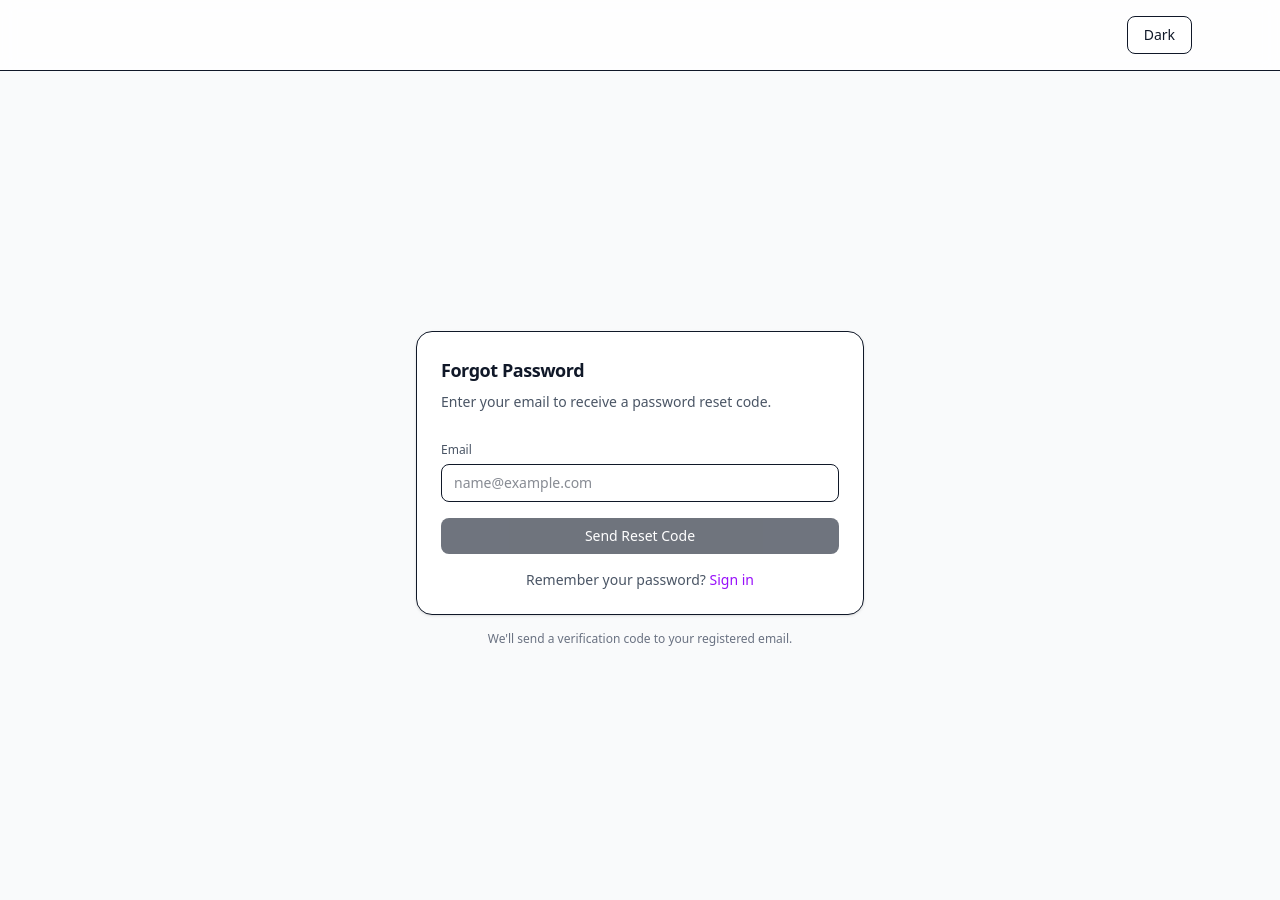
Test case: ForgotPasswordPage › shows validation error for invalid email format
In the field with placeholder "name@example.com": (640, 482) [441, 464, 839, 502], type "not-an-email"
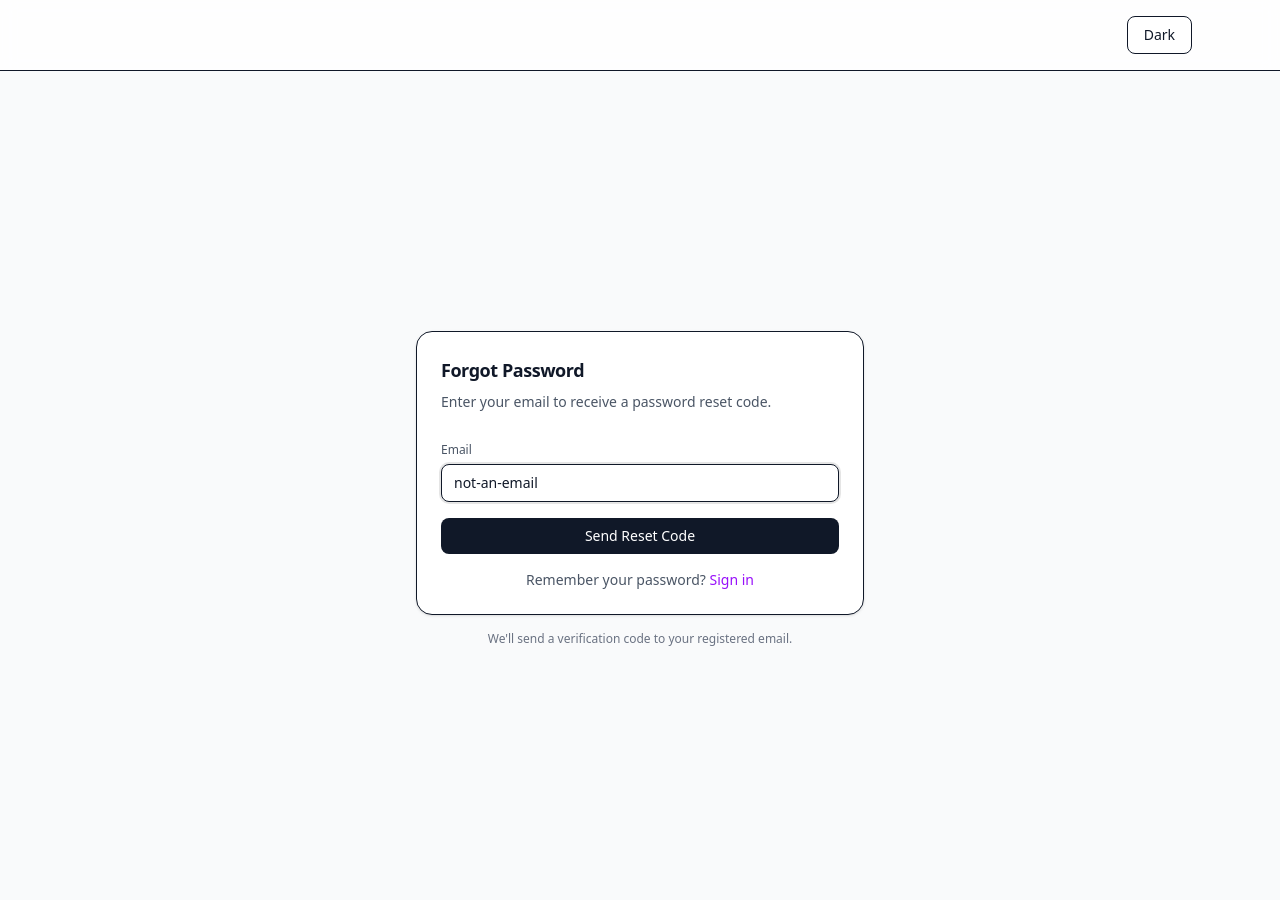
Click the button "Send Reset Code": (640, 536) [441, 518, 839, 554]
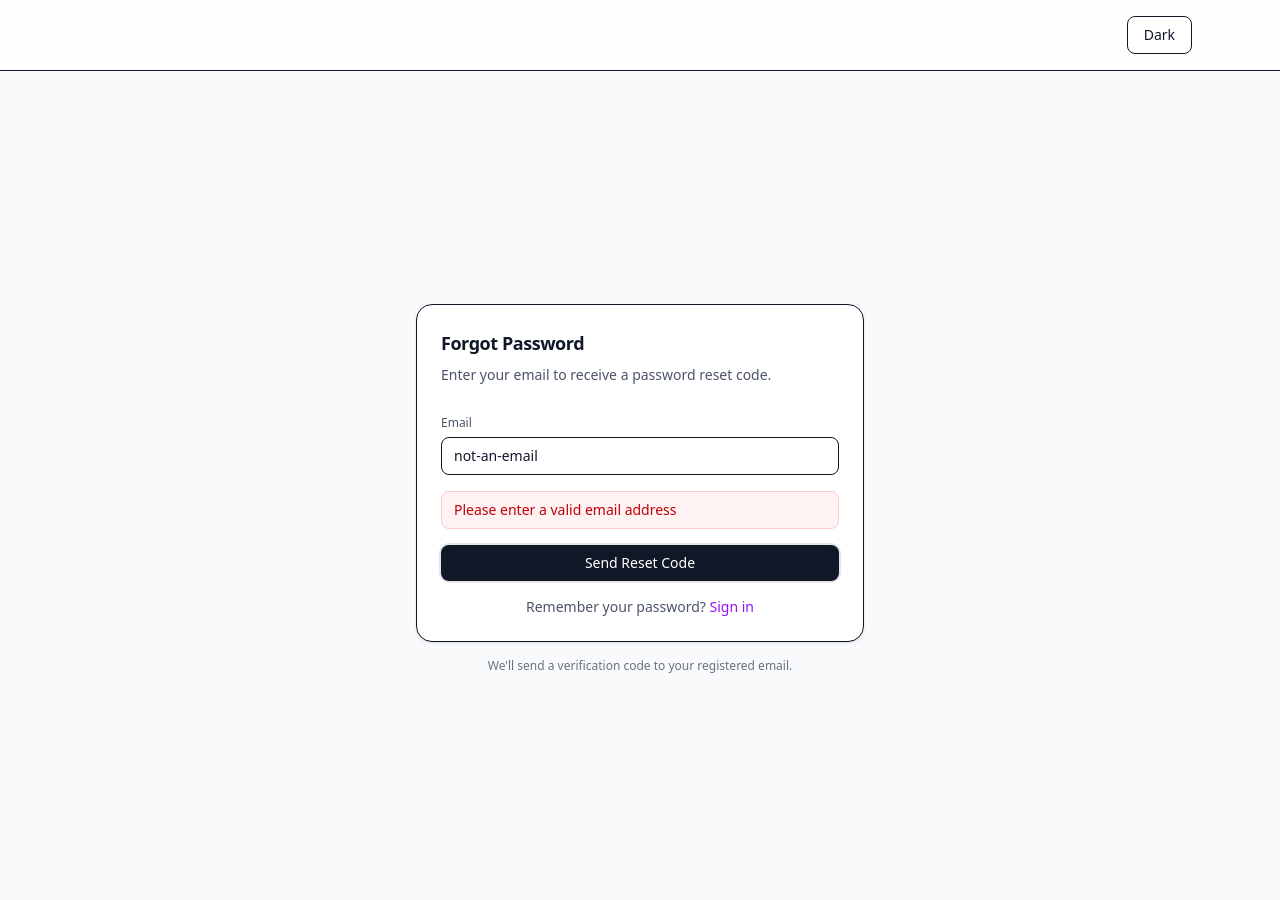
Result: the text "Please enter a valid email address" is shown at [441, 490, 839, 528]
